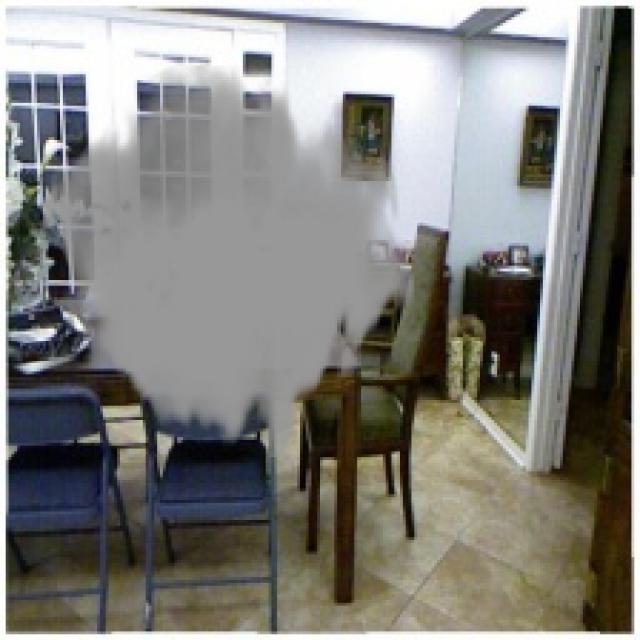smoke: (40, 66, 417, 457)
